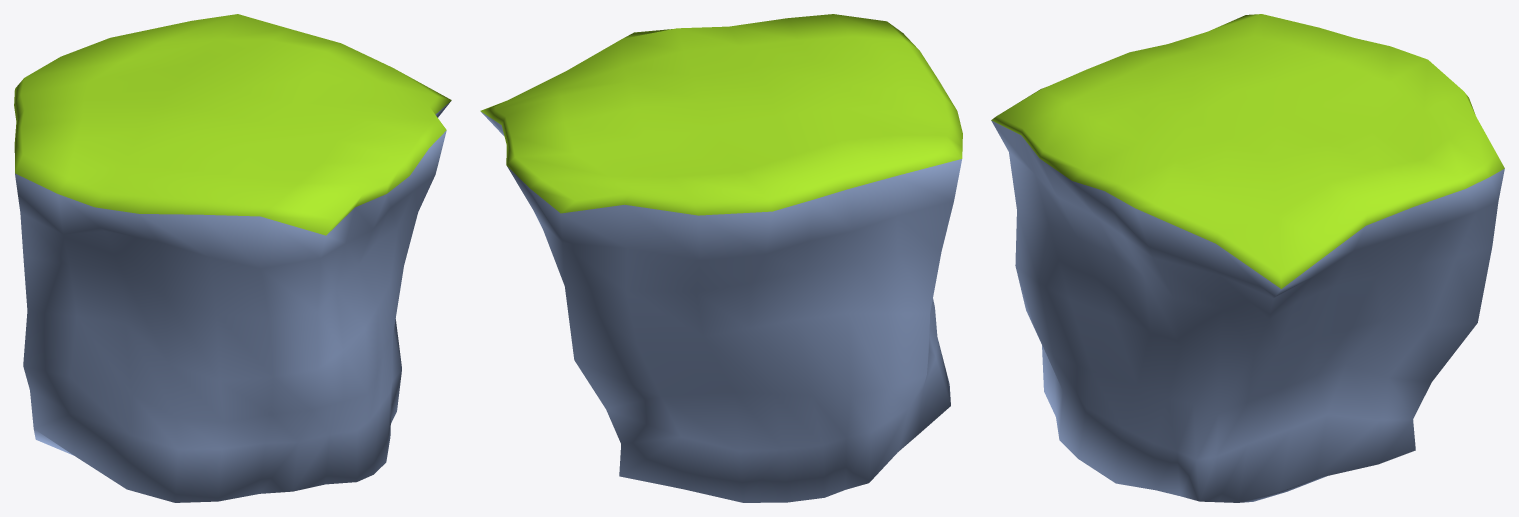
File: platform_medium1.glb
The picture shows the model from 3 angles, left to right: view 1: azimuth 30°, elevation 25°; view 2: azimuth 150°, elevation 25°; view 3: azimuth 270°, elevation 25°; orthographic projection. The views are drawn at different scales.
Parts seen in each view (by area): view 1: Cube.123; view 2: Cube.123; view 3: Cube.123.
Part boxes in pixels (left/top/right/bottom): Cube.123: left=14, top=14, right=451, bottom=502; Cube.123: left=480, top=14, right=962, bottom=502; Cube.123: left=991, top=14, right=1504, bottom=502.
Bounding box in the file's own units: 25.81 × 20.45 × 25.14.
